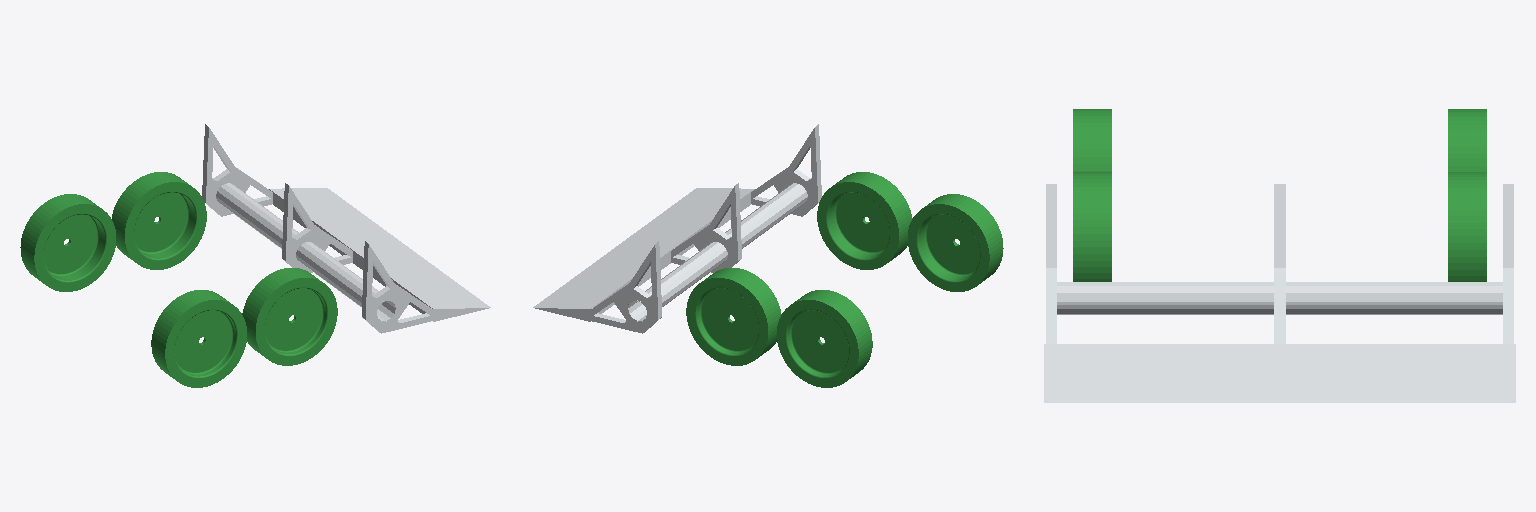
URDF robot description (r5_2020):
<?xml version="1.0" encoding="utf-8"?>
<!-- This URDF was automatically created by SolidWorks to URDF Exporter! Originally created by [author] ([email redacted]) 
     Commit Version: 1.6.0-1-g15f4949  Build Version: 1.6.7594.29634
     For more information, please see http://wiki.ros.org/sw_urdf_exporter -->
<robot
  name="r5_2020">
  <link
    name="base_link">
    <inertial>
      <origin
        xyz="0.011699 -0.00096208 0.073308"
        rpy="0 0 0" />
      <mass
        value="9.0243" />
      <inertia
        ixx="0.063201"
        ixy="2.2318E-08"
        ixz="6.5755E-05"
        iyy="0.024429"
        iyz="-8.8504E-07"
        izz="0.08132" />
    </inertial>
    <visual>
      <origin
        xyz="0 0 0"
        rpy="0 0 0" />
      <geometry>
        <mesh
          filename="package://r5_2020/meshes/base_link.STL" />
      </geometry>
      <material
        name="">
        <color
          rgba="0.77647 0.75686 0.73725 1" />
      </material>
    </visual>
    <collision>
      <origin
        xyz="0 0 0"
        rpy="0 0 0" />
      <geometry>
        <mesh
          filename="package://r5_2020/meshes/base_link.STL" />
      </geometry>
    </collision>
  </link>
  <link
    name="wheel_front_left_link">
    <inertial>
      <origin
        xyz="0 0.00077954 -6.9389E-18"
        rpy="0 0 0" />
      <mass
        value="0.21891" />
      <inertia
        ixx="0.00029734"
        ixy="1.7968E-20"
        ixz="-7.1749E-21"
        iyy="0.00055556"
        iyz="-1.6186E-20"
        izz="0.00029734" />
    </inertial>
    <visual>
      <origin
        xyz="0 0 0"
        rpy="0 0 0" />
      <geometry>
        <mesh
          filename="package://r5_2020/meshes/wheel_front_left_link.STL" />
      </geometry>
      <material
        name="">
        <color
          rgba="0.28627 0.66275 0.32941 1" />
      </material>
    </visual>
    <collision>
      <origin
        xyz="0 0 0"
        rpy="0 0 0" />
      <geometry>
        <mesh
          filename="package://r5_2020/meshes/wheel_front_left_link.STL" />
      </geometry>
    </collision>
  </link>
  <joint
    name="wheel_front_left_joint"
    type="continuous">
    <origin
      xyz="0.066 0.1655 0.06"
      rpy="0 0 0" />
    <parent
      link="base_link" />
    <child
      link="wheel_front_left_link" />
    <axis
      xyz="0 1 0" />
  </joint>
  <link
    name="wheel_front_right_link">
    <inertial>
      <origin
        xyz="2.7756E-17 -0.00077954 -6.9389E-18"
        rpy="0 0 0" />
      <mass
        value="0.21891" />
      <inertia
        ixx="0.00029734"
        ixy="5.8334E-20"
        ixz="3.4779E-21"
        iyy="0.00055556"
        iyz="1.7248E-20"
        izz="0.00029734" />
    </inertial>
    <visual>
      <origin
        xyz="0 0 0"
        rpy="0 0 0" />
      <geometry>
        <mesh
          filename="package://r5_2020/meshes/wheel_front_right_link.STL" />
      </geometry>
      <material
        name="">
        <color
          rgba="0.28627 0.66275 0.32941 1" />
      </material>
    </visual>
    <collision>
      <origin
        xyz="0 0 0"
        rpy="0 0 0" />
      <geometry>
        <mesh
          filename="package://r5_2020/meshes/wheel_front_right_link.STL" />
      </geometry>
    </collision>
  </link>
  <joint
    name="wheel_front_right_joint"
    type="continuous">
    <origin
      xyz="0.066 -0.1655 0.06"
      rpy="0 0 0" />
    <parent
      link="base_link" />
    <child
      link="wheel_front_right_link" />
    <axis
      xyz="0 1 0" />
  </joint>
  <link
    name="wheel_back_left_link">
    <inertial>
      <origin
        xyz="-4.1633E-17 0.33178 -6.9389E-18"
        rpy="0 0 0" />
      <mass
        value="0.21891" />
      <inertia
        ixx="0.00029734"
        ixy="1.3739E-20"
        ixz="1.2841E-21"
        iyy="0.00055556"
        iyz="7.3228E-22"
        izz="0.00029734" />
    </inertial>
    <visual>
      <origin
        xyz="0 0 0"
        rpy="0 0 0" />
      <geometry>
        <mesh
          filename="package://r5_2020/meshes/wheel_back_left_link.STL" />
      </geometry>
      <material
        name="">
        <color
          rgba="0.28627 0.66275 0.32941 1" />
      </material>
    </visual>
    <collision>
      <origin
        xyz="0 0 0"
        rpy="0 0 0" />
      <geometry>
        <mesh
          filename="package://r5_2020/meshes/wheel_back_left_link.STL" />
      </geometry>
    </collision>
  </link>
  <joint
    name="wheel_back_left_joint"
    type="continuous">
    <origin
      xyz="-0.066 -0.1655 0.06"
      rpy="0 0 0" />
    <parent
      link="base_link" />
    <child
      link="wheel_back_left_link" />
    <axis
      xyz="0 1 0" />
  </joint>
  <link
    name="wheel_back_right_link">
    <inertial>
      <origin
        xyz="5.5511E-17 -0.33178 -6.9389E-18"
        rpy="0 0 0" />
      <mass
        value="0.21891" />
      <inertia
        ixx="0.00029734"
        ixy="5.622E-20"
        ixz="9.8222E-21"
        iyy="0.00055556"
        iyz="8.3932E-21"
        izz="0.00029734" />
    </inertial>
    <visual>
      <origin
        xyz="0 0 0"
        rpy="0 0 0" />
      <geometry>
        <mesh
          filename="package://r5_2020/meshes/wheel_back_right_link.STL" />
      </geometry>
      <material
        name="">
        <color
          rgba="0.28627 0.66275 0.32941 1" />
      </material>
    </visual>
    <collision>
      <origin
        xyz="0 0 0"
        rpy="0 0 0" />
      <geometry>
        <mesh
          filename="package://r5_2020/meshes/wheel_back_right_link.STL" />
      </geometry>
    </collision>
  </link>
  <joint
    name="wheel_back_right_joint"
    type="continuous">
    <origin
      xyz="-0.066 0.1655 0.06"
      rpy="0 0 0" />
    <parent
      link="base_link" />
    <child
      link="wheel_back_right_link" />
    <axis
      xyz="0 1 0" />
  </joint>
  <link
    name="weapon_link">
    <inertial>
      <origin
        xyz="0.047946 3.9763E-17 -0.0065602"
        rpy="0 0 0" />
      <mass
        value="0.78518" />
      <inertia
        ixx="0.0028669"
        ixy="-1.4071E-06"
        ixz="0.00029149"
        iyy="0.0010787"
        iyz="1.5086E-07"
        izz="0.0031658" />
    </inertial>
    <visual>
      <origin
        xyz="0 0 0"
        rpy="0 0 0" />
      <geometry>
        <mesh
          filename="package://r5_2020/meshes/weapon_link.STL" />
      </geometry>
      <material
        name="">
        <color
          rgba="0.89804 0.91765 0.92941 1" />
      </material>
    </visual>
    <collision>
      <origin
        xyz="0 0 0"
        rpy="0 0 0" />
      <geometry>
        <mesh
          filename="package://r5_2020/meshes/weapon_link.STL" />
      </geometry>
    </collision>
  </link>
  <joint
    name="weapon_joint"
    type="fixed">
    <origin
      xyz="0.183 0 0.0575"
      rpy="0 0 0" />
    <parent
      link="base_link" />
    <child
      link="weapon_link" />
    <axis
      xyz="0 0 0" />
  </joint>
</robot>

--- What the picture shows (computed from the rendered views, not written in the file) ---
3 views of the same robot in one strip: view 1: azimuth 30°, elevation 25°; view 2: azimuth 150°, elevation 25°; view 3: azimuth 270°, elevation 25° (orthographic).
Robot: r5_2020 — 6 links, 5 joints (4 continuous, 1 fixed); root link base_link; default pose: every joint at zero.
Visible links, largest first — view 1: weapon_link, wheel_back_left_link, wheel_back_right_link, wheel_front_right_link, wheel_front_left_link; view 2: weapon_link, wheel_back_right_link, wheel_back_left_link, wheel_front_right_link, wheel_front_left_link; view 3: weapon_link, wheel_front_left_link, wheel_front_right_link, wheel_back_left_link, wheel_back_right_link.
Boxes of the visible links, bbox=[...] form: weapon_link: bbox=[202, 124, 490, 333]; wheel_back_left_link: bbox=[20, 194, 115, 291]; wheel_back_right_link: bbox=[151, 290, 246, 387]; wheel_front_right_link: bbox=[242, 268, 337, 365]; wheel_front_left_link: bbox=[112, 172, 206, 269]; weapon_link: bbox=[533, 124, 821, 333]; wheel_back_right_link: bbox=[908, 194, 1003, 291]; wheel_back_left_link: bbox=[777, 290, 872, 387]; wheel_front_right_link: bbox=[817, 172, 912, 269]; wheel_front_left_link: bbox=[686, 268, 781, 365]; weapon_link: bbox=[1044, 184, 1515, 402]; wheel_front_left_link: bbox=[1448, 172, 1486, 281]; wheel_front_right_link: bbox=[1073, 172, 1111, 281]; wheel_back_left_link: bbox=[1448, 109, 1486, 171]; wheel_back_right_link: bbox=[1073, 109, 1111, 171].
Size in the robot's own frame: 0.4621 by 0.416 by 0.1573 metres.
Meshes: 6 distinct files referenced, 5 mesh visuals loaded (5 binary STL); not drawn: 1 (reference not matched to a file when rendering).
